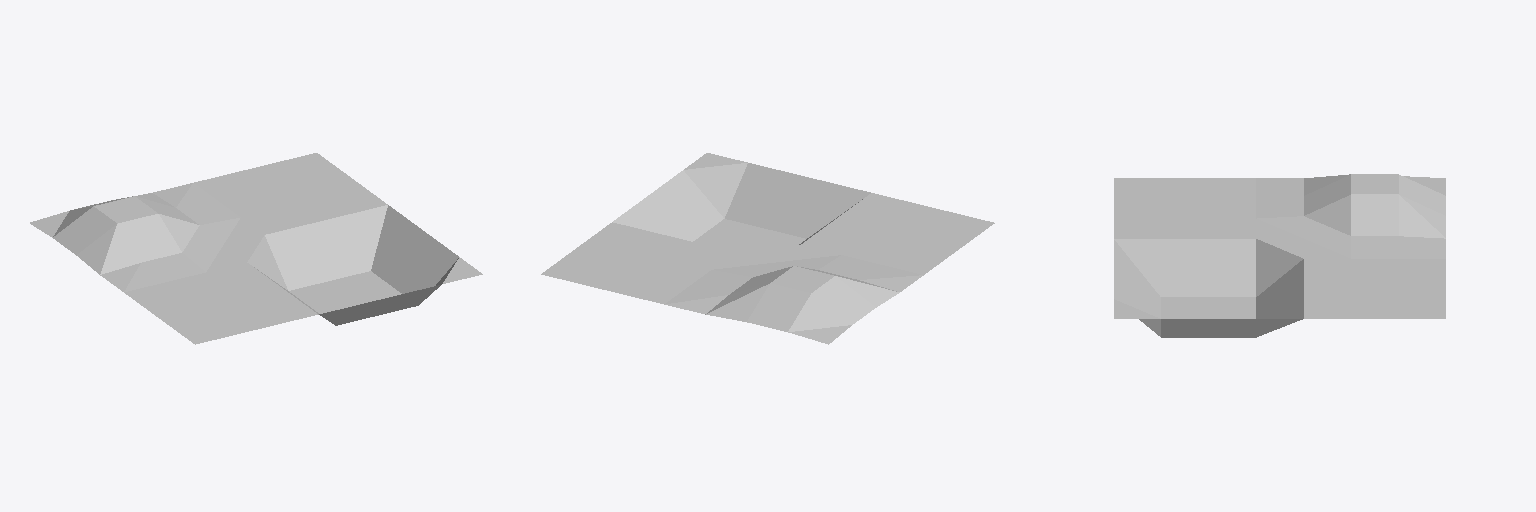
File: plan2.obj
3 renders of one model, left to right at view 1: azimuth 30°, elevation 25°; view 2: azimuth 150°, elevation 25°; view 3: azimuth 270°, elevation 25°, orthographic.
Parts seen in each view (by area): view 1: Plane; view 2: Plane; view 3: Plane.
Part boxes in pixels (x1,y1,x2,y2): Plane: (30,153,482,344); Plane: (541,153,994,344); Plane: (1114,174,1445,337).
Bounding box in the file's own units: 10 × 2.08 × 10.